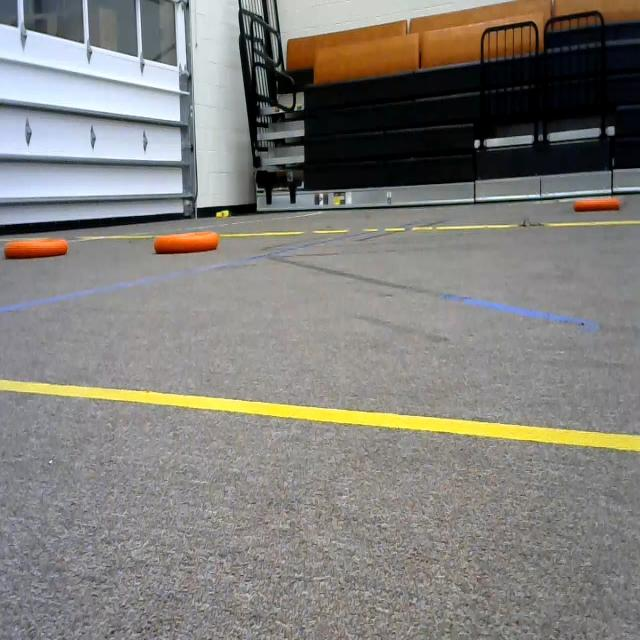note: (0, 227, 70, 263), (150, 226, 221, 259), (574, 193, 625, 215)
